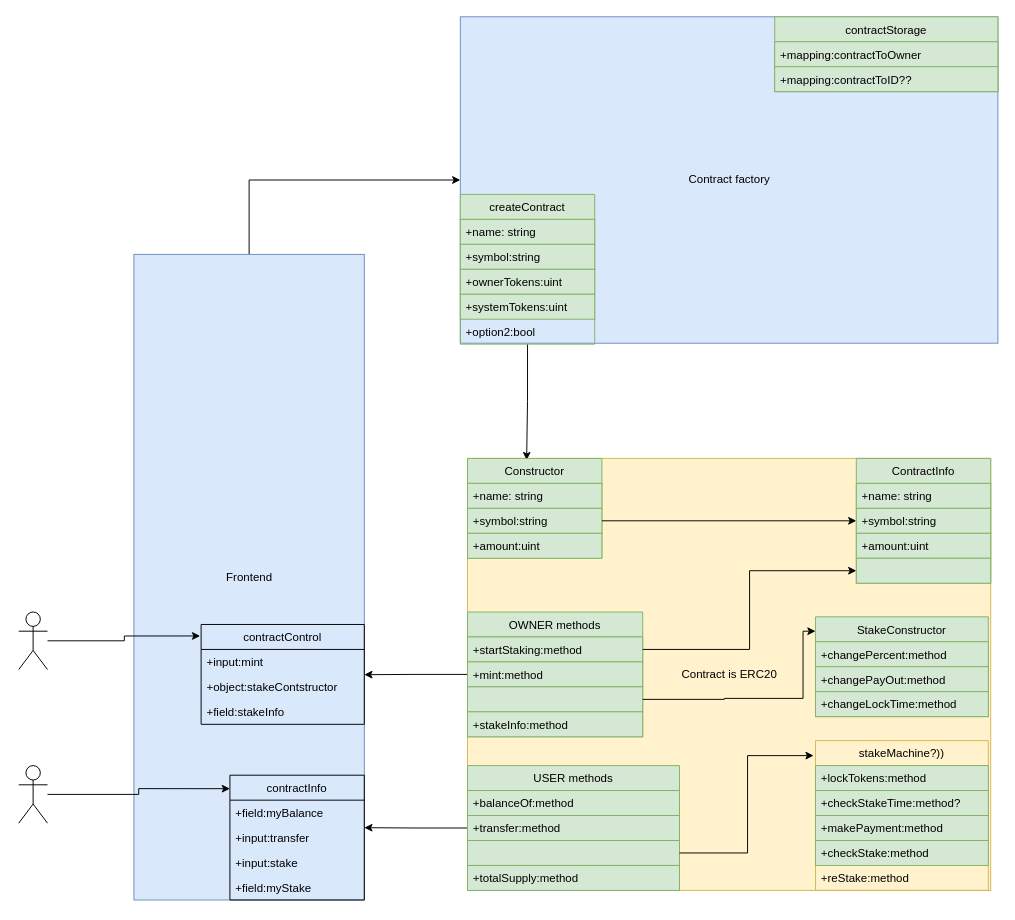
The diagram is 1015 pixels wide and 920 high, and some of its shapes have lost their labels. The centre of each missing label's shape, as x and y in pixels:
+active:bool: point (923, 570)
+stake:method: point (573, 852)
+stakeConstructor:method: point (555, 699)
Owner: point (33, 640)
Users: point (33, 794)
